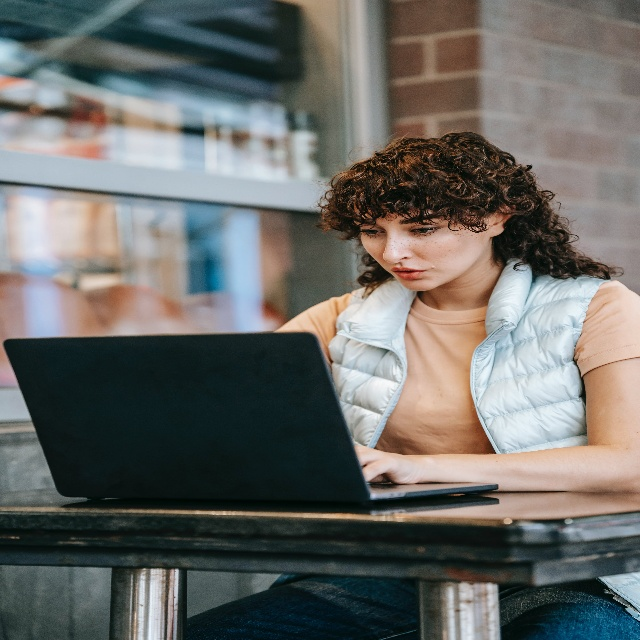Sin_guantes: (353, 445, 417, 485)
